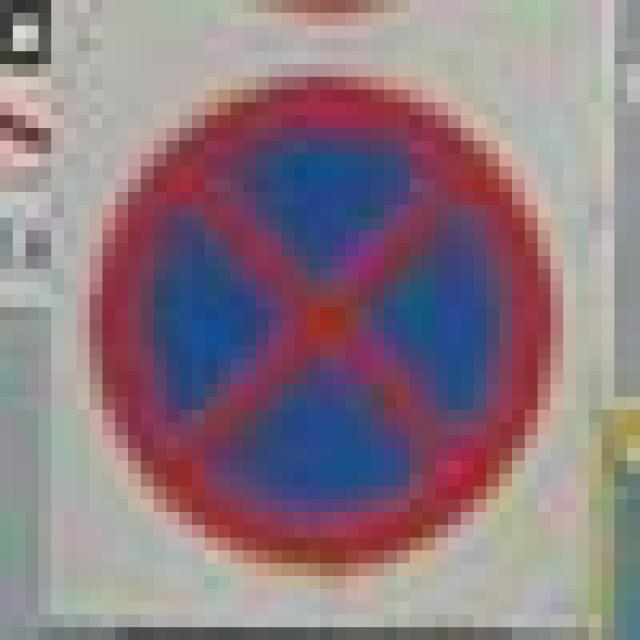no stopping or standing: (87, 71, 557, 579)
